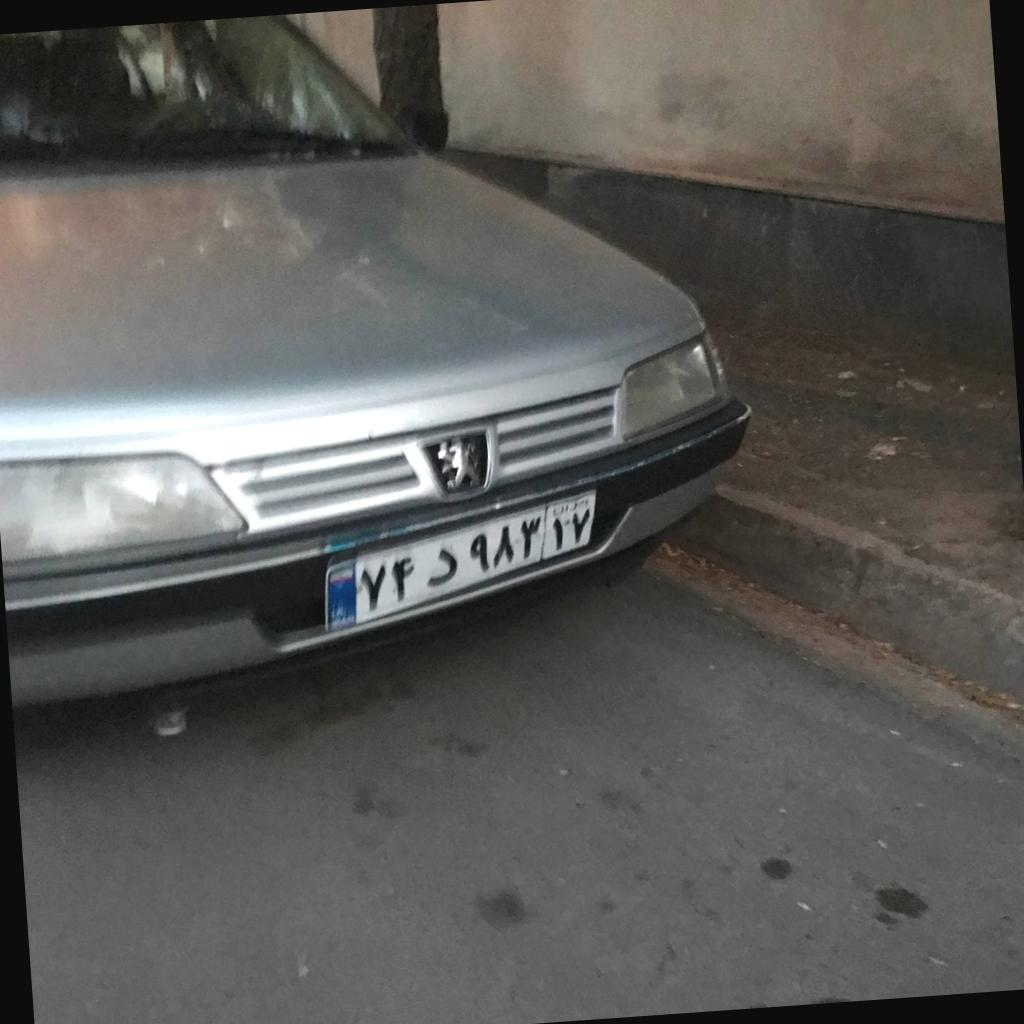Plates: (327, 492, 595, 633)
